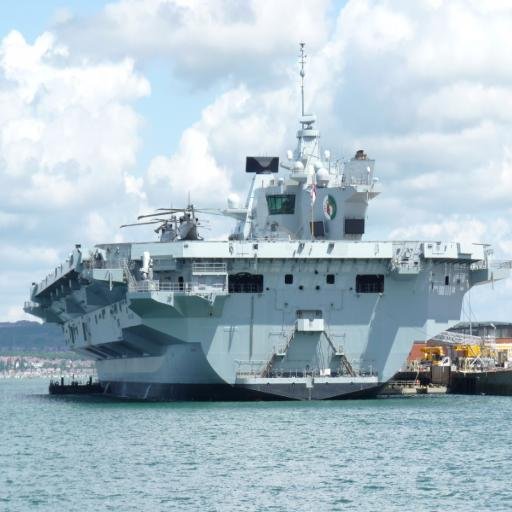Portanaves: (26, 34, 491, 407)
